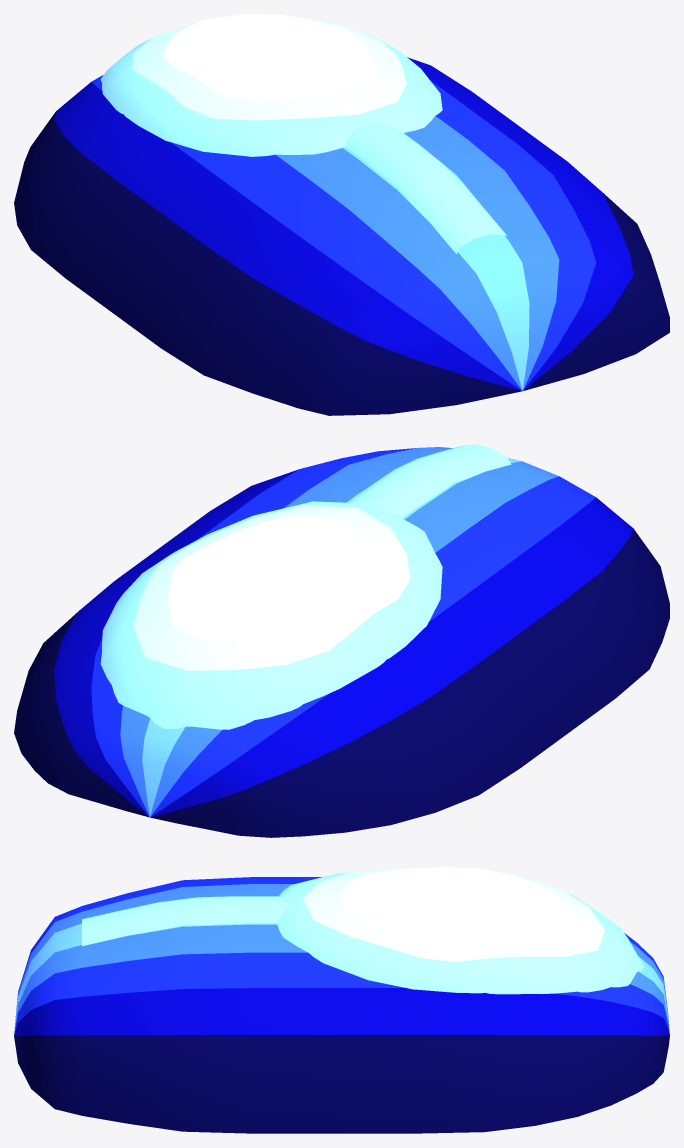
Rendered from shot_zica_97.glb.
3 renders of one model, top to bottom at view 1: azimuth 30°, elevation 25°; view 2: azimuth 150°, elevation 25°; view 3: azimuth 270°, elevation 25°, orthographic. The views are drawn at different scales.
Parts seen in each view (by area): view 1: shot_zica_97_rod, shot_zica_97_ball, shot_zica_97_core; view 2: shot_zica_97_rod, shot_zica_97_ball, shot_zica_97_core; view 3: shot_zica_97_rod, shot_zica_97_ball, shot_zica_97_core.
Boxes of the visible parts, left/top/right/bottom form: shot_zica_97_rod: left=14, top=57, right=669, bottom=415; shot_zica_97_ball: left=100, top=14, right=442, bottom=156; shot_zica_97_core: left=346, top=121, right=507, bottom=253; shot_zica_97_rod: left=14, top=447, right=669, bottom=837; shot_zica_97_ball: left=100, top=501, right=442, bottom=729; shot_zica_97_core: left=348, top=444, right=511, bottom=518; shot_zica_97_rod: left=14, top=877, right=669, bottom=1133; shot_zica_97_ball: left=276, top=866, right=644, bottom=994; shot_zica_97_core: left=82, top=896, right=289, bottom=946.
Size of the model in its own units: 11 by 3.85 by 15.62.
